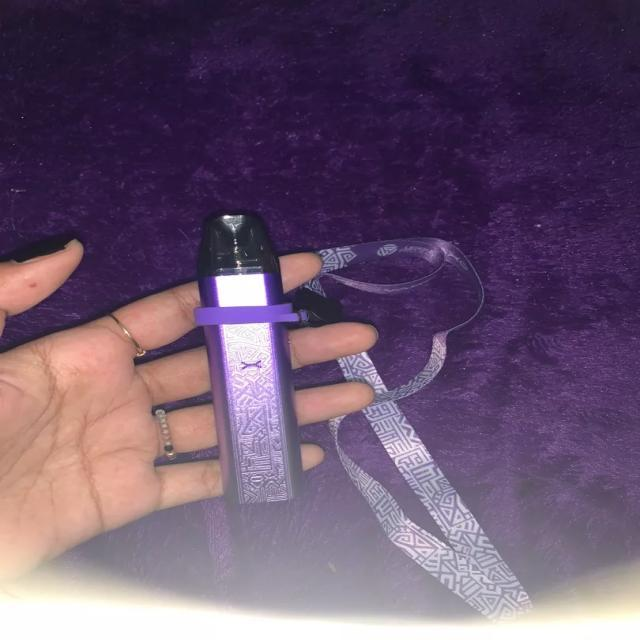Hazard: (192, 210, 304, 512)
